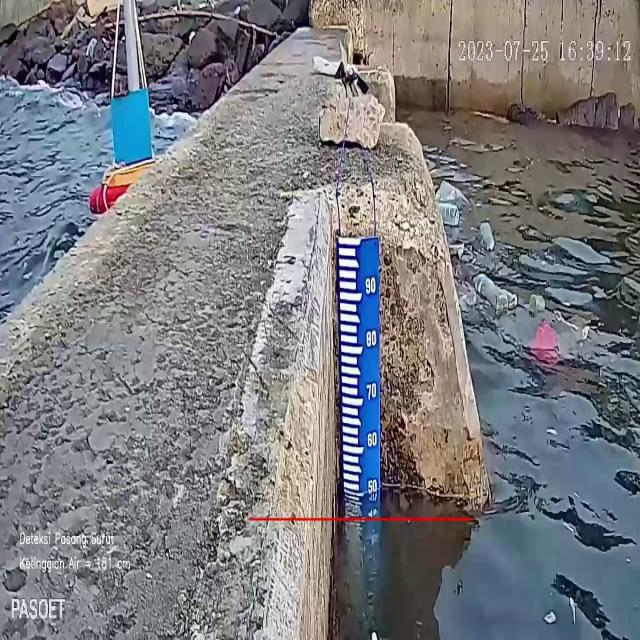50: (368, 478, 378, 492)
60: (367, 431, 377, 447)
70: (366, 380, 377, 402)
80: (366, 326, 376, 348)
90: (366, 276, 376, 296)
staff: (338, 237, 380, 496)
